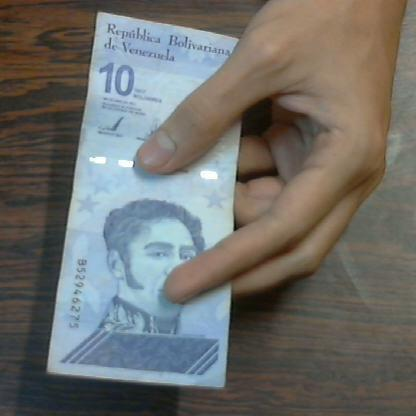vef_front: (46, 14, 246, 390)
